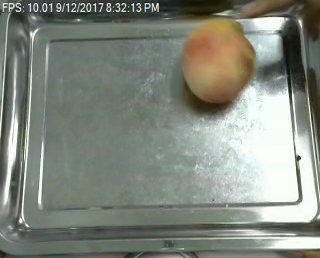Peach: (182, 18, 255, 104)
